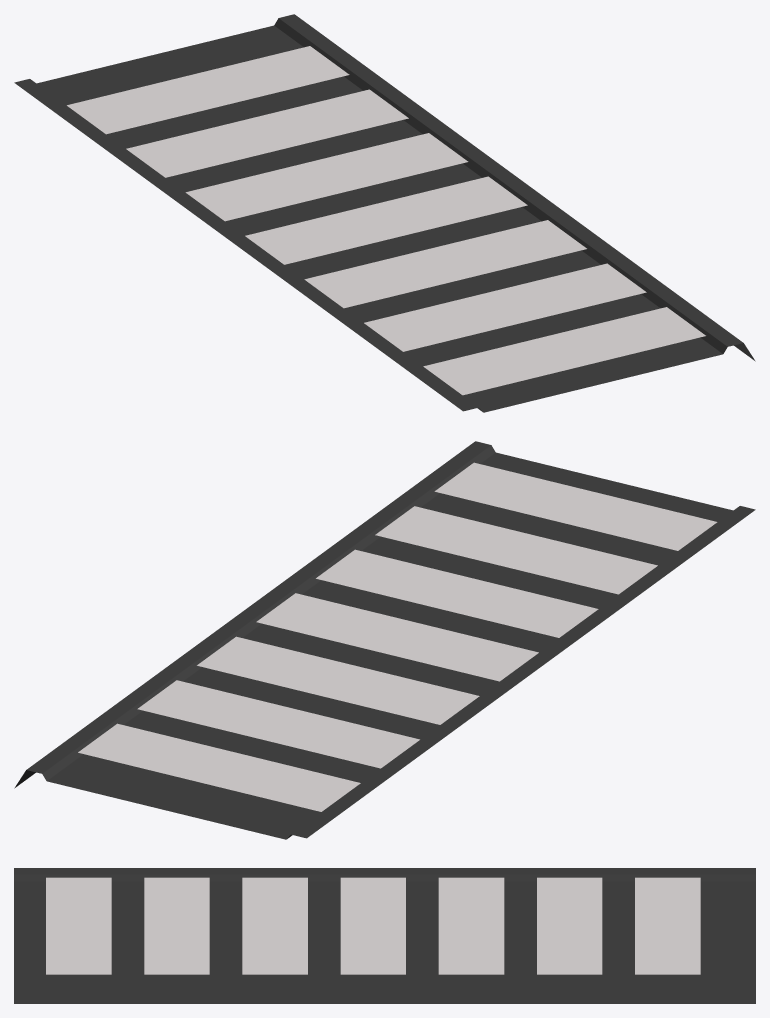
The model's file is LowPoly_RoadDangerSchoolHuman.fbx.
3 views of the same model, one above another, from view 1: azimuth 30°, elevation 25°; view 2: azimuth 150°, elevation 25°; view 3: azimuth 270°, elevation 25° (orthographic). The views are drawn at different scales.
Visible parts, largest first — view 1: Plane; view 2: Plane; view 3: Plane.
Part boxes in pixels (x1,y1,x2,y2): Plane: (14,14,755,412); Plane: (14,441,755,839); Plane: (14,868,755,1003).
Size of the model in its own units: 224 by 15.95 by 596.
